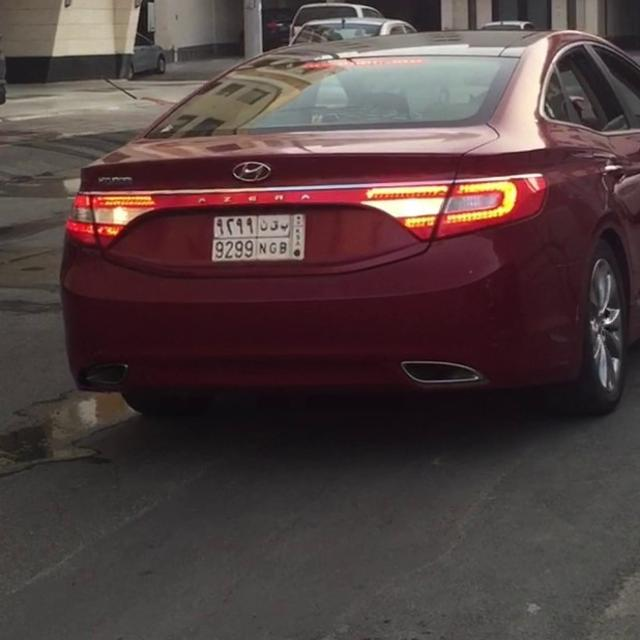Car-plate: (198, 209, 317, 269)
